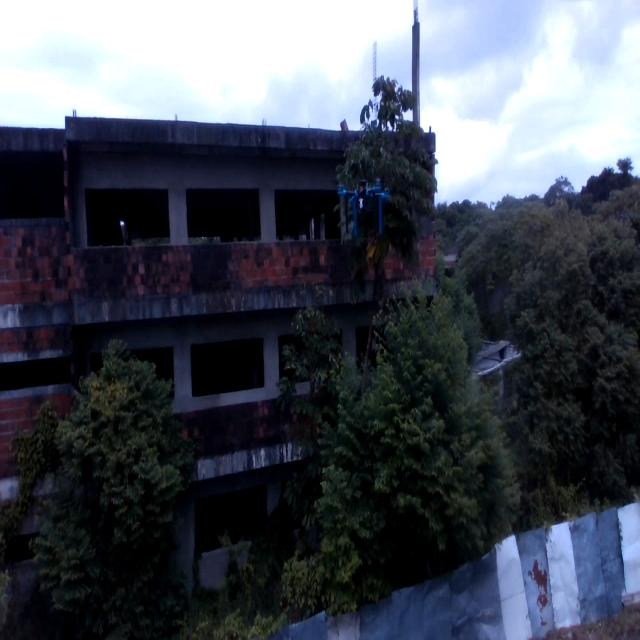-uav-: (338, 164, 390, 244)
